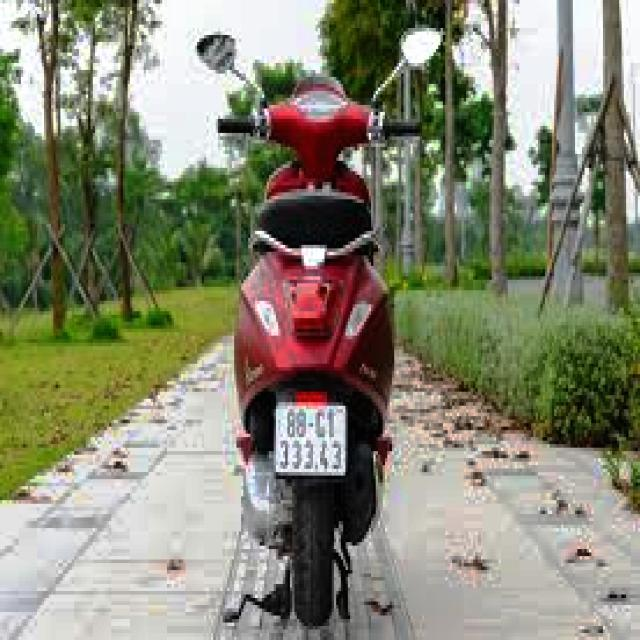license_plate: (276, 405, 348, 478)
